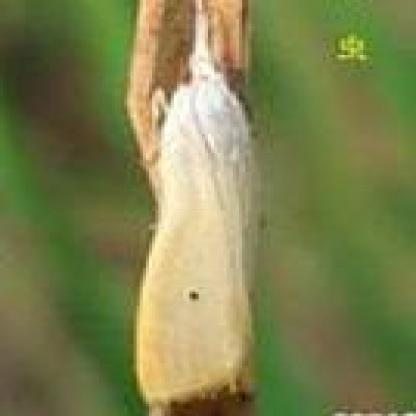stem-borer: (134, 0, 266, 416)
